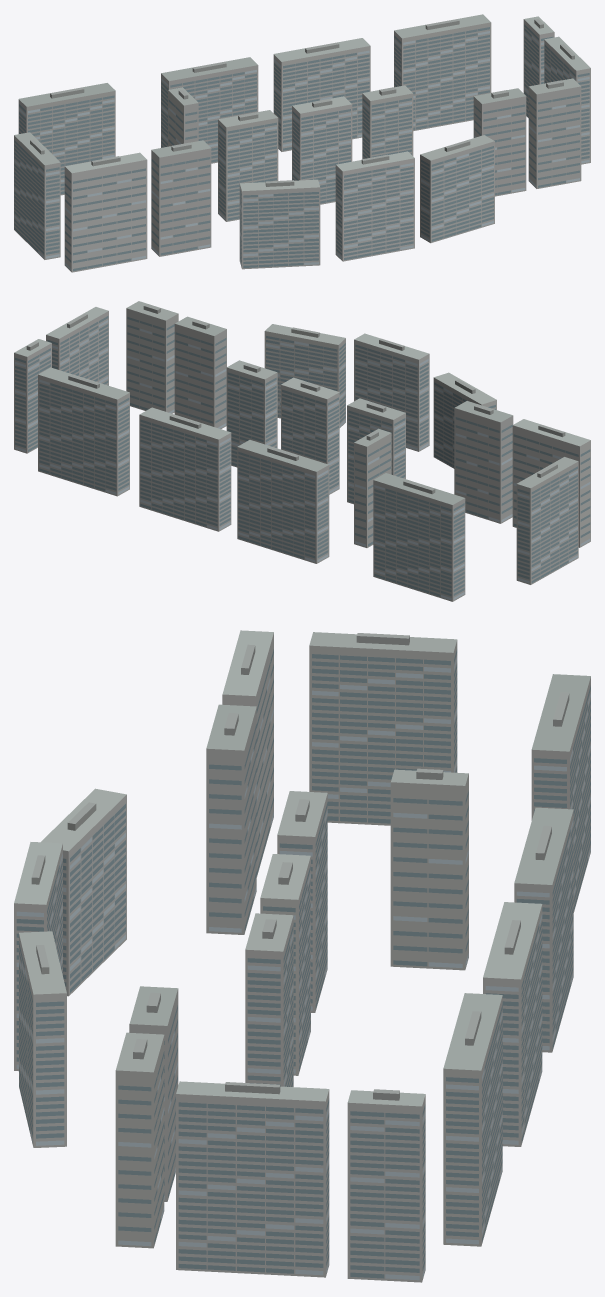
File: apt-a15083404.glb
The picture shows the model from 3 angles, top to bottom: view 1: azimuth 30°, elevation 25°; view 2: azimuth 150°, elevation 25°; view 3: azimuth 270°, elevation 25°; orthographic projection. The views are drawn at different scales.
Parts seen in each view (by area): view 1: apt-a15083404; view 2: apt-a15083404; view 3: apt-a15083404.
Part boxes in pixels (<box>): apt-a15083404: <box>14,14,590,272</box>; apt-a15083404: <box>14,301,590,601</box>; apt-a15083404: <box>14,630,590,1282</box>.
Bounding box in the file's own units: 362 × 68 × 186.
